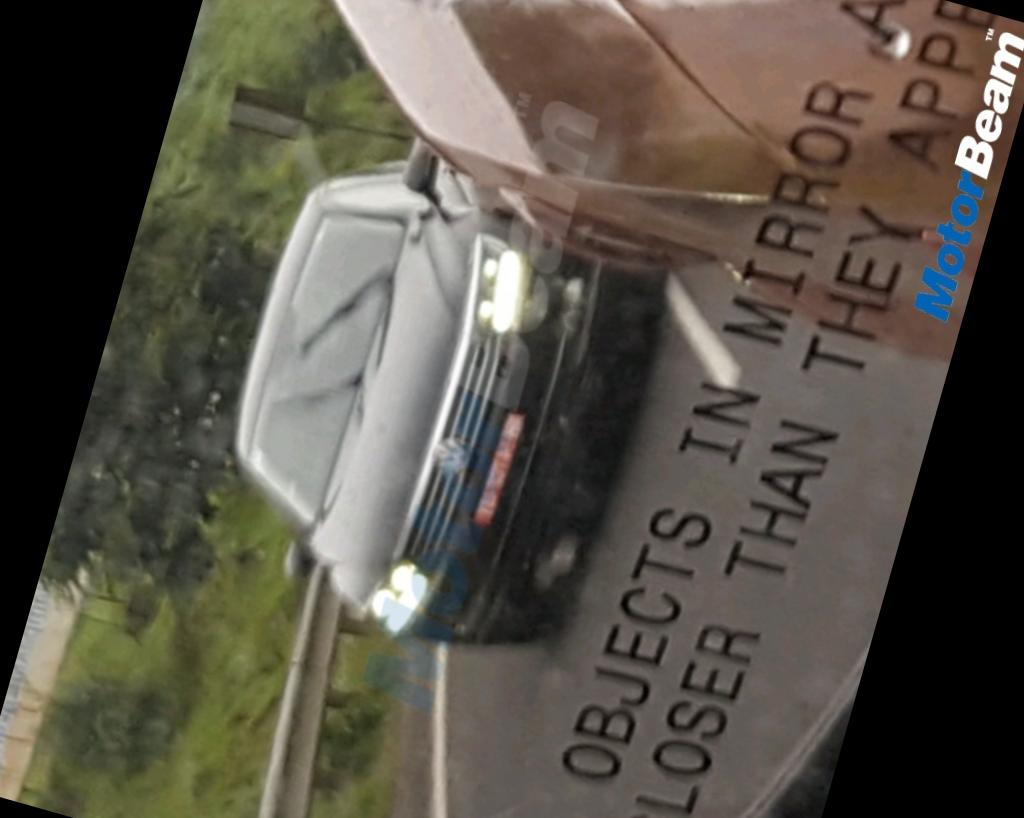plate: (465, 396, 546, 543)
